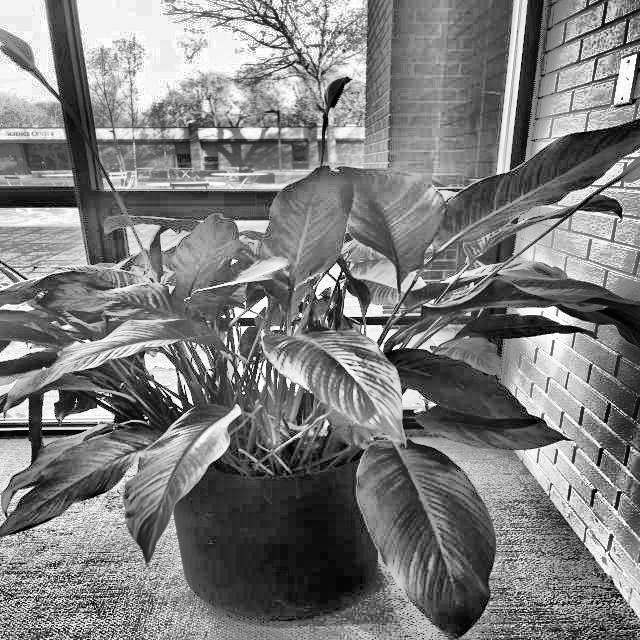plants: (45, 194, 569, 478)
